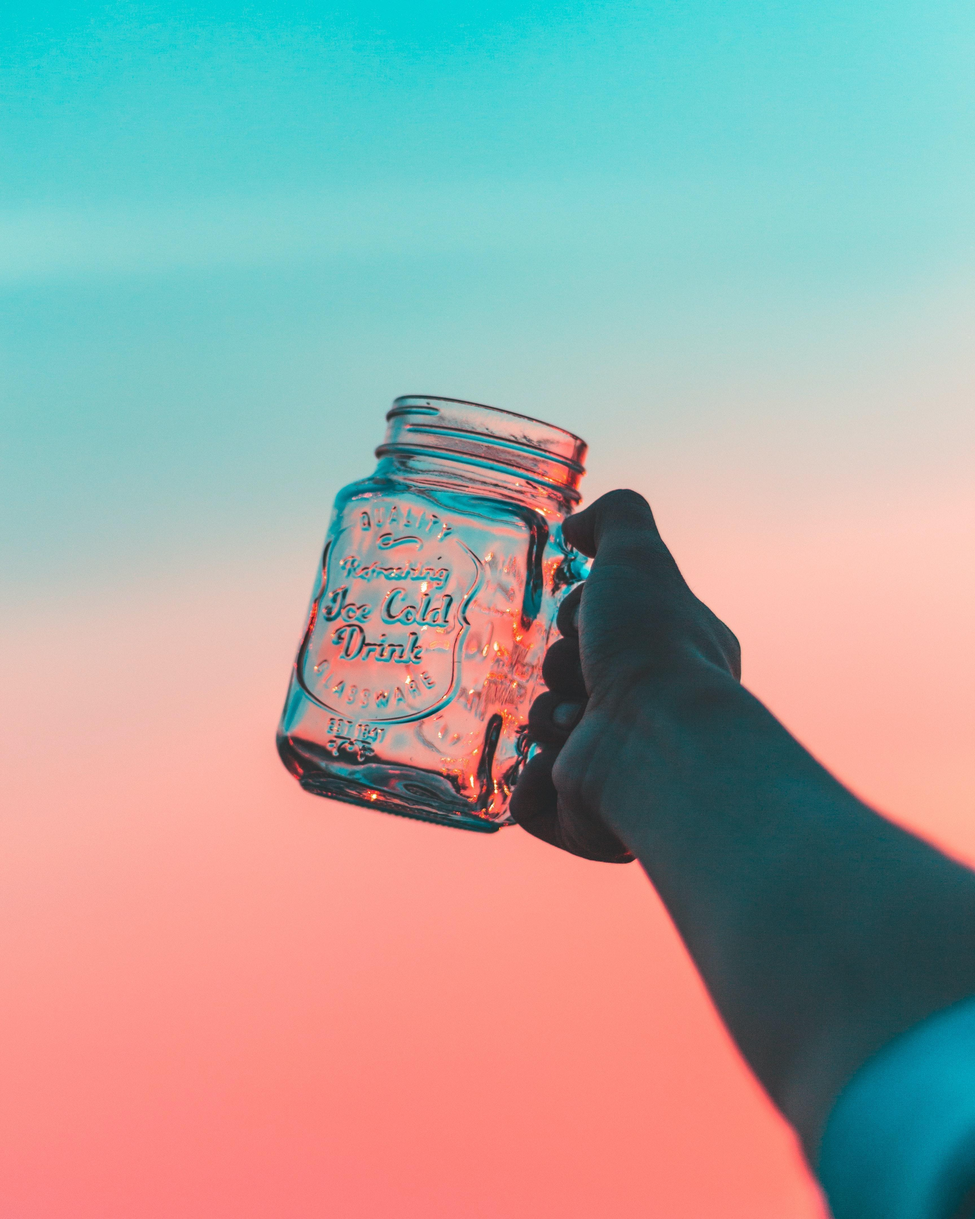glass-mug: (269, 382, 645, 841)
